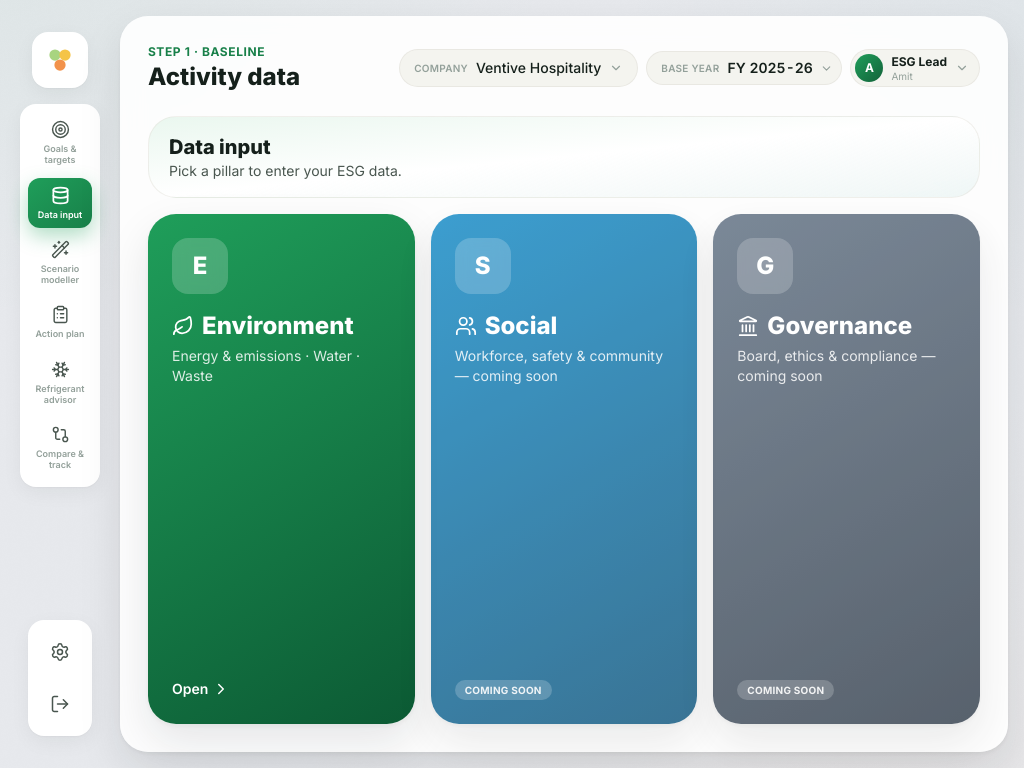
Test: Shell → Goals & targets navigation › renders the goals screen when the nav item is clicked
The image size is (1024, 768).
# The desktop sidebar button is labelled by its tab name.
Click the button "Goals & targets". click: (60,143)
box: [28,112,92,174]
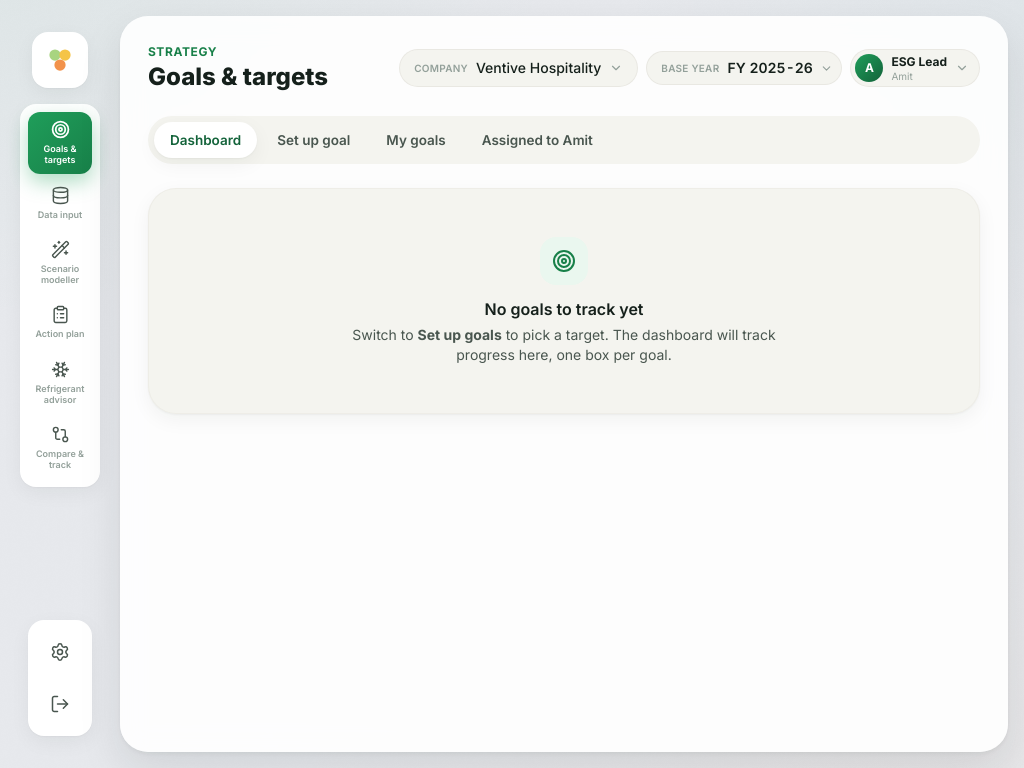
Expected: the text "Goals & targets" is shown, [44,143,76,165]
Result: the button "Set up goal" is shown at [261,122,366,158]
Result: the heading "No goals to track yet" is shown at [484,299,644,319]
